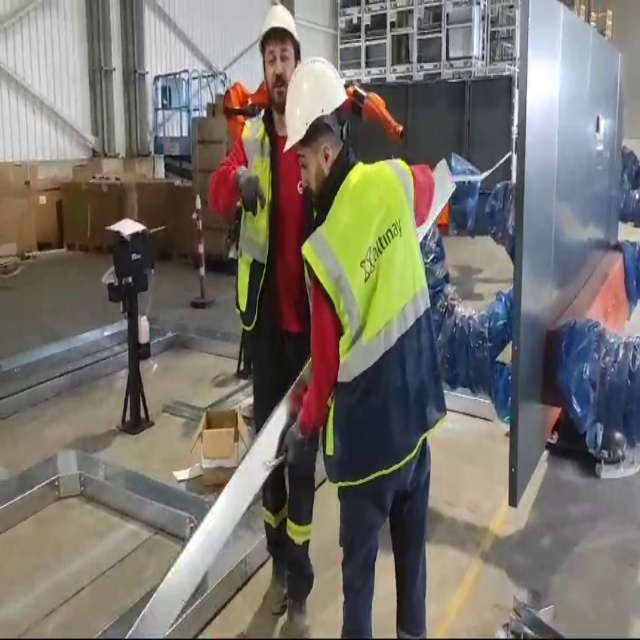safety_helmet: (282, 56, 348, 154), (258, 3, 301, 48)
